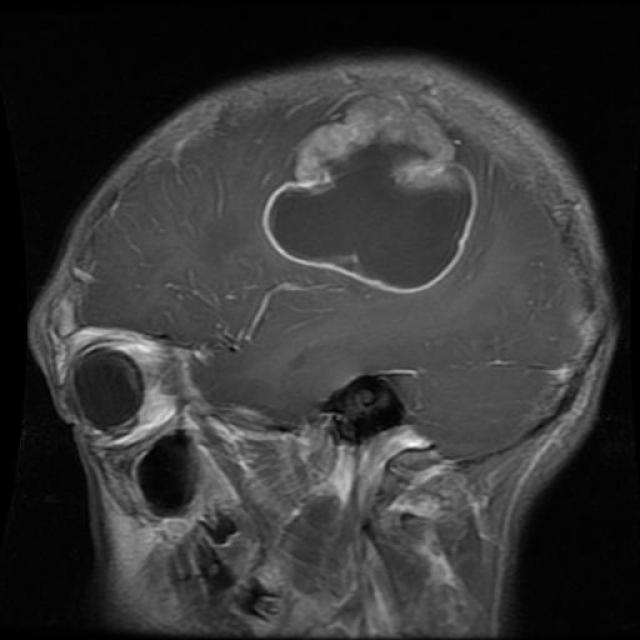glioma: (268, 109, 482, 289)
